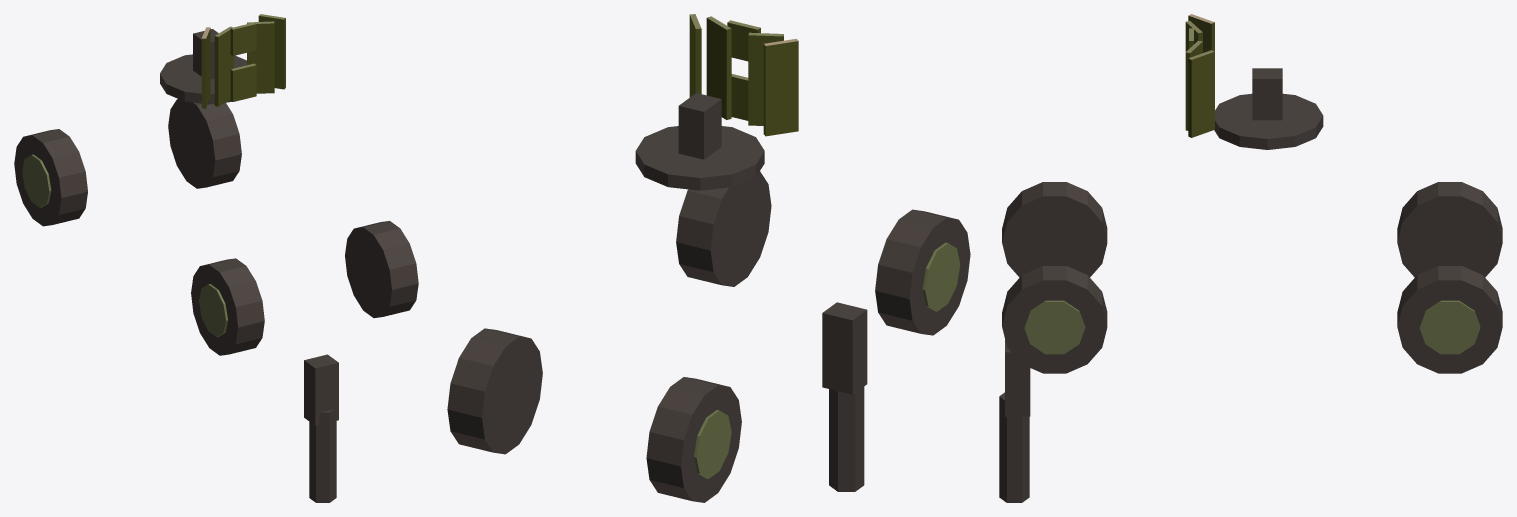
The model's file is SM_Vamtac_Animable_v0_Boscoso_LOD1.fbx.
3 renders of one model, left to right at view 1: azimuth 30°, elevation 25°; view 2: azimuth 150°, elevation 25°; view 3: azimuth 270°, elevation 25°, orthographic. The views are drawn at different scales.
Parts seen in each view (by area): view 1: Aro, Rueda_2R, Rueda_1R, Rueda_1L, Rueda_2L, Ametralladora; view 2: Aro, Rueda_1R, Rueda_2L, Rueda_2R, Rueda_1L, Ametralladora; view 3: Aro, Rueda_2L, Rueda_1L, Rueda_2R, Rueda_1R, Ametralladora.
Boxes of the visible parts, bbox=[...] form: Aro: bbox=[160, 14, 285, 108]; Rueda_2R: bbox=[14, 129, 87, 226]; Rueda_1R: bbox=[191, 258, 264, 355]; Rueda_1L: bbox=[345, 221, 418, 318]; Rueda_2L: bbox=[168, 99, 241, 188]; Ametralladora: bbox=[304, 354, 338, 502]; Aro: bbox=[635, 14, 798, 190]; Rueda_1R: bbox=[875, 209, 970, 335]; Rueda_2L: bbox=[447, 328, 542, 454]; Rueda_2R: bbox=[646, 377, 741, 502]; Rueda_1L: bbox=[676, 171, 771, 286]; Ametralladora: bbox=[822, 302, 867, 491]; Aro: bbox=[1185, 14, 1323, 149]; Rueda_2L: bbox=[1397, 266, 1502, 373]; Rueda_1L: bbox=[1002, 266, 1107, 373]; Rueda_2R: bbox=[1397, 182, 1502, 277]; Rueda_1R: bbox=[1002, 182, 1107, 277]; Ametralladora: bbox=[999, 339, 1030, 502].
Size of what is drawn, in the model's own units: 2.35 by 5.04 by 4.97.
